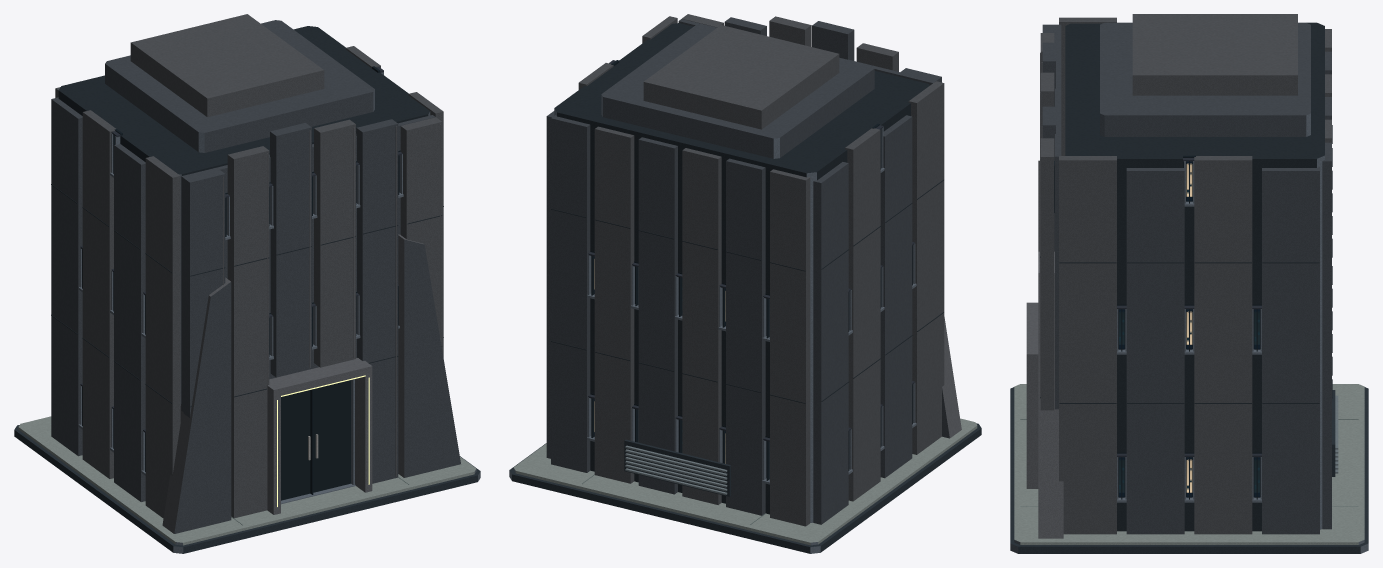
The model's file is 01-about-annex-03.glb.
The picture shows the model from 3 angles, left to right: view 1: azimuth 30°, elevation 25°; view 2: azimuth 150°, elevation 25°; view 3: azimuth 270°, elevation 25°; orthographic projection. The views are drawn at different scales.
Parts seen in each view (by area): view 1: about_monolith_annex; view 2: about_monolith_annex; view 3: about_monolith_annex.
Part boxes in pixels (<box>): about_monolith_annex: <box>14,14,480,553</box>; about_monolith_annex: <box>509,14,981,553</box>; about_monolith_annex: <box>1010,14,1368,553</box>.
Size of the model in its own units: 9.6 by 11.76 by 9.
2 materials, 2 textured.
